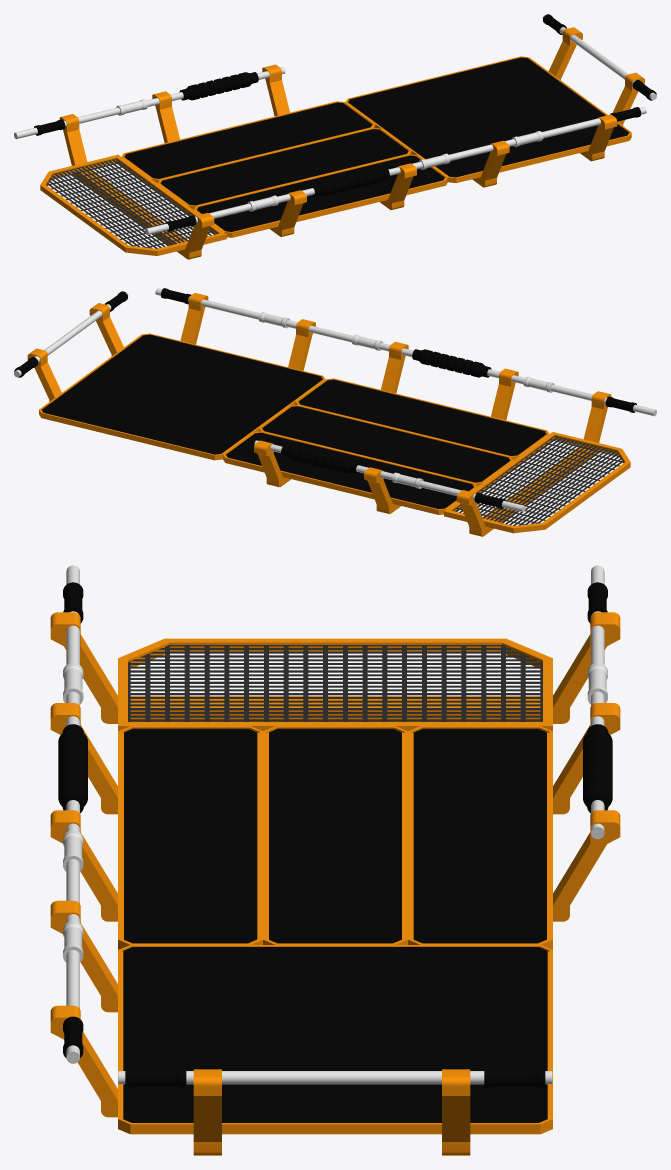
The model's file is turn_scifi_floor.fbx.
The picture shows the model from 3 angles, top to bottom: view 1: azimuth 30°, elevation 25°; view 2: azimuth 150°, elevation 25°; view 3: azimuth 270°, elevation 25°; orthographic projection. The views are drawn at different scales.
Visible parts, largest first — view 1: Cube.006, Cube.005, Cube.007, Cube.008, Cylinder.004, Cube.009, Cube.004, Cylinder.006, Cylinder.007, Cylinder.005; view 2: Cube.005, Cube.006, Cube.007, Cube.008, Cube.009, Cylinder.004, Cube.004, Cylinder.006, Cylinder.007, Cylinder.005; view 3: Cube.006, Cube.005, Cube.007, Cube.004, Cube.009, Cube.008, Cylinder.004, Cylinder.006, Cylinder.007, Cylinder.005.
Boxes of the visible parts, left/top/right/bottom form: Cube.006: left=121, top=101, right=447, bottom=237; Cube.005: left=40, top=56, right=631, bottom=255; Cube.007: left=46, top=158, right=218, bottom=248; Cube.008: left=152, top=64, right=416, bottom=236; Cylinder.004: left=14, top=14, right=656, bottom=234; Cube.009: left=472, top=27, right=644, bottom=187; Cube.004: left=59, top=114, right=214, bottom=259; Cylinder.006: left=179, top=72, right=389, bottom=196; Cylinder.007: left=34, top=14, right=656, bottom=231; Cylinder.005: left=116, top=99, right=543, bottom=211; Cube.005: left=39, top=333, right=630, bottom=533; Cube.006: left=223, top=378, right=549, bottom=514; Cube.007: left=452, top=436, right=624, bottom=525; Cube.008: left=254, top=341, right=518, bottom=514; Cube.009: left=27, top=293, right=315, bottom=401; Cylinder.004: left=14, top=288, right=656, bottom=512; Cube.004: left=456, top=391, right=611, bottom=536; Cylinder.006: left=281, top=349, right=491, bottom=473; Cylinder.007: left=14, top=288, right=636, bottom=508; Cylinder.005: left=258, top=312, right=554, bottom=488; Cube.006: left=118, top=726, right=552, bottom=949; Cube.005: left=118, top=638, right=552, bottom=1134; Cube.007: left=128, top=645, right=542, bottom=721; Cube.004: left=50, top=612, right=620, bottom=723; Cube.009: left=50, top=900, right=470, bottom=1155; Cube.008: left=50, top=703, right=620, bottom=921; Cylinder.004: left=66, top=565, right=604, bottom=1084; Cylinder.006: left=58, top=724, right=612, bottom=813; Cylinder.007: left=63, top=582, right=607, bottom=1087; Cylinder.005: left=63, top=663, right=607, bottom=962.
Size of the model in its own units: 1964 by 188 by 917.
